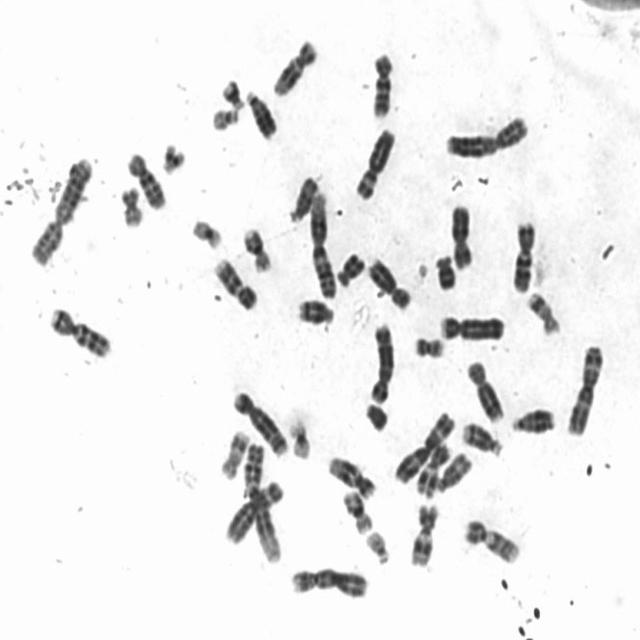A1: (240, 438, 284, 564), (306, 186, 339, 301)
A2: (27, 151, 95, 268), (441, 109, 530, 160)
A3: (391, 406, 457, 486), (563, 338, 606, 437)
B4: (288, 562, 370, 599), (436, 310, 507, 342)
B5: (228, 384, 290, 458), (366, 318, 396, 405)
C10: (123, 147, 169, 212), (368, 46, 396, 120)
C11: (405, 498, 441, 569), (415, 438, 453, 496)
C12: (269, 33, 320, 98), (324, 450, 378, 500)
C6: (222, 474, 286, 547), (352, 122, 398, 202)
C7: (45, 300, 114, 360), (508, 215, 538, 295)
C8: (463, 356, 506, 424), (365, 252, 413, 310)
C9: (460, 513, 522, 566), (210, 252, 260, 312)
D13: (242, 84, 280, 141), (508, 402, 557, 436)
D14: (458, 416, 504, 459), (294, 294, 336, 327)
D15: (431, 448, 474, 494), (285, 170, 321, 223)
E16: (239, 222, 274, 274), (339, 485, 375, 535)
E17: (217, 424, 251, 481), (524, 286, 562, 336)
E18: (333, 247, 367, 288), (432, 249, 458, 292)
F19: (188, 214, 224, 251), (286, 415, 313, 461)
F20: (117, 182, 145, 230), (411, 330, 447, 360)
G21: (158, 138, 188, 176), (218, 73, 247, 112)
G22: (362, 525, 392, 566), (208, 102, 242, 132)
X: (447, 199, 475, 271)
Y: (362, 398, 390, 433)
